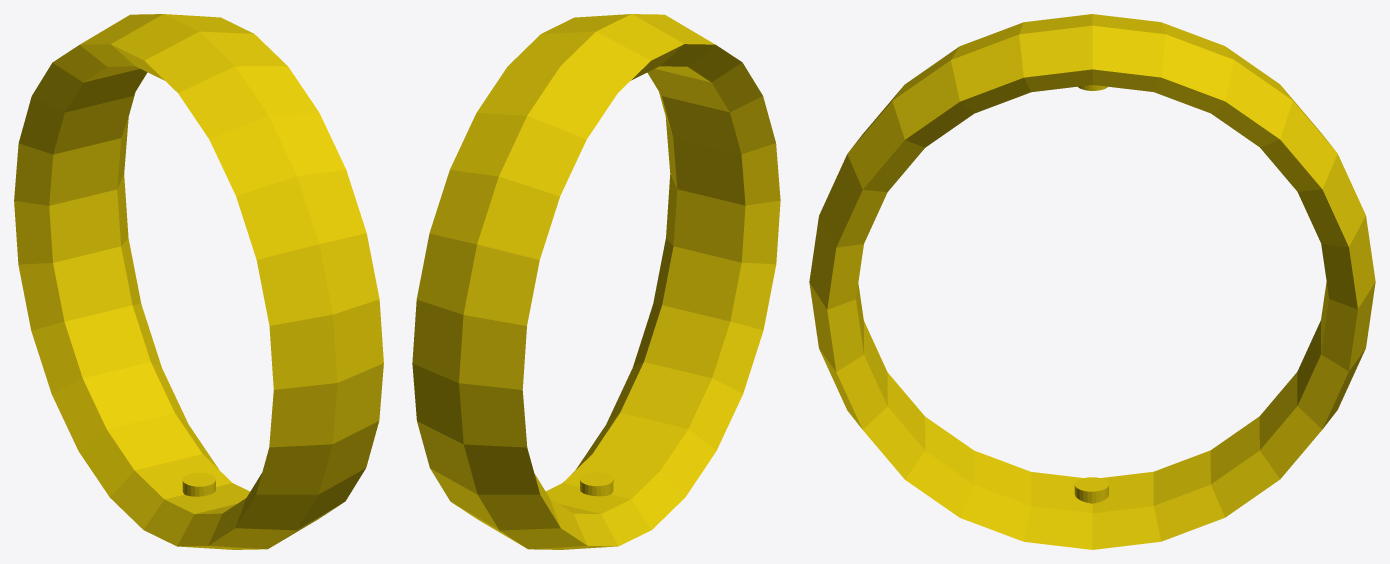
File: gyroscope3.glb
The picture shows the model from 3 angles, left to right: view 1: azimuth 30°, elevation 25°; view 2: azimuth 150°, elevation 25°; view 3: azimuth 270°, elevation 25°; orthographic projection. The views are drawn at different scales.
Visible parts, largest first — view 1: Torus.002, Cylinder.002; view 2: Torus.002, Cylinder.002; view 3: Torus.002, Cylinder.002.
Part boxes in pixels (x1=…): Torus.002: x1=14, y1=14, x2=383, y2=549; Cylinder.002: x1=182, y1=472, x2=215, y2=496; Torus.002: x1=412, y1=14, x2=780, y2=549; Cylinder.002: x1=580, y1=472, x2=613, y2=496; Torus.002: x1=809, y1=14, x2=1375, y2=549; Cylinder.002: x1=1074, y1=477, x2=1108, y2=503.
Size of the model in its own units: 0.77 by 3.3 by 3.3.
